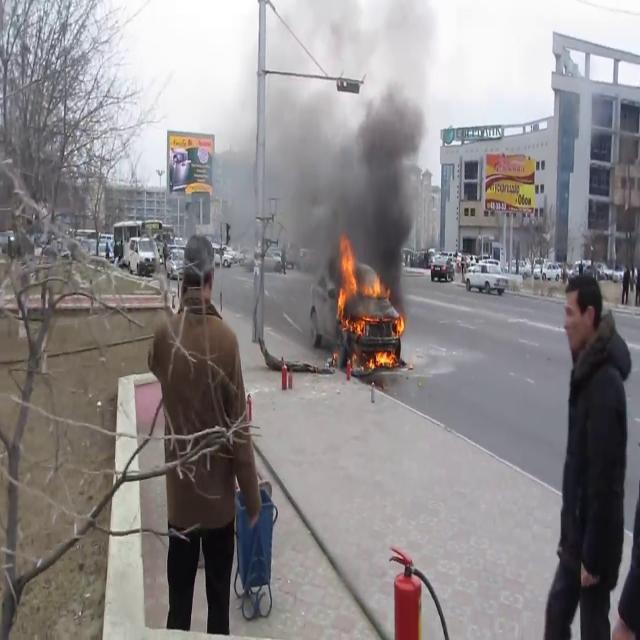Fire: (333, 236, 405, 374)
Smoke: (214, 1, 431, 275)
